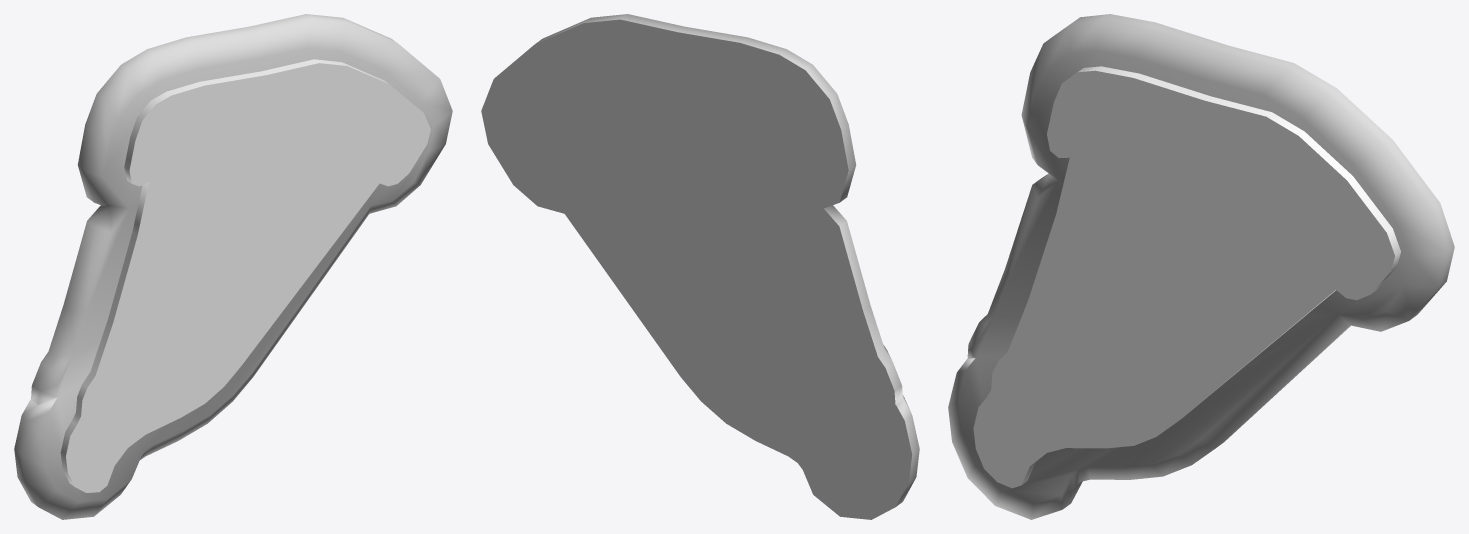
File: Wooden Pizza Slice.glb
The picture shows the model from 3 angles, left to right: view 1: azimuth 30°, elevation 25°; view 2: azimuth 150°, elevation 25°; view 3: azimuth 330°, elevation 25°; orthographic projection. The views are drawn at different scales.
Visible parts, largest first — view 1: Plane.010; view 2: Plane.010; view 3: Plane.010.
Part boxes in pixels (x1,y1,x2,y2): Plane.010: (14,14,452,519); Plane.010: (481,14,919,519); Plane.010: (948,14,1454,519).
Bounding box in the file's own units: 0.4543 × 0.4528 × 0.0341.
Materials: 2 (1 with a texture image).
